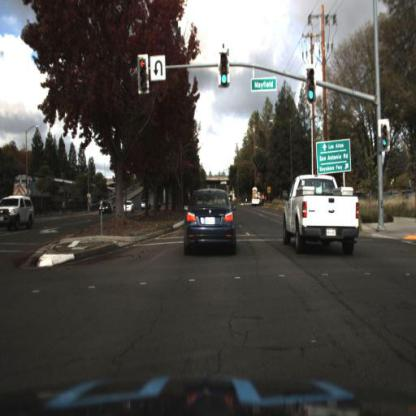car: (280, 166, 363, 269), (183, 187, 238, 261), (1, 184, 35, 234), (250, 185, 265, 208), (251, 185, 263, 209), (97, 200, 112, 217), (122, 198, 136, 216), (139, 199, 150, 213)
trafficLight-Green: (377, 122, 395, 161), (304, 71, 318, 111), (220, 57, 234, 96)
trafficLight-RedLeft: (135, 55, 150, 101)
